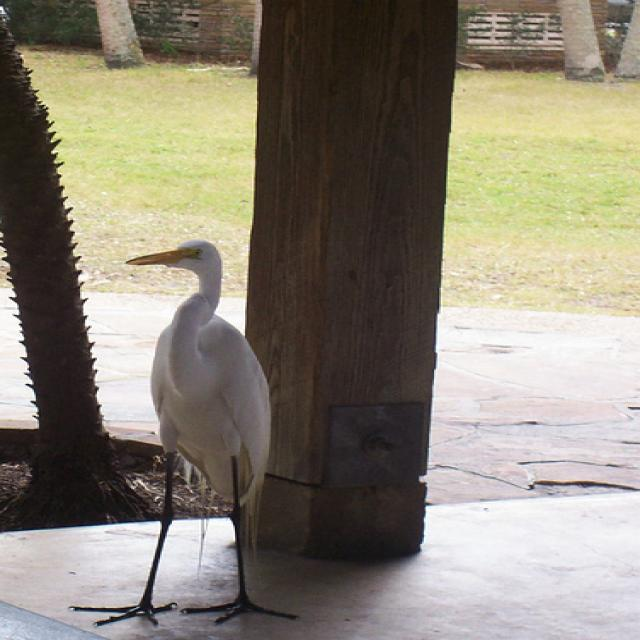bird: (71, 239, 273, 628)
